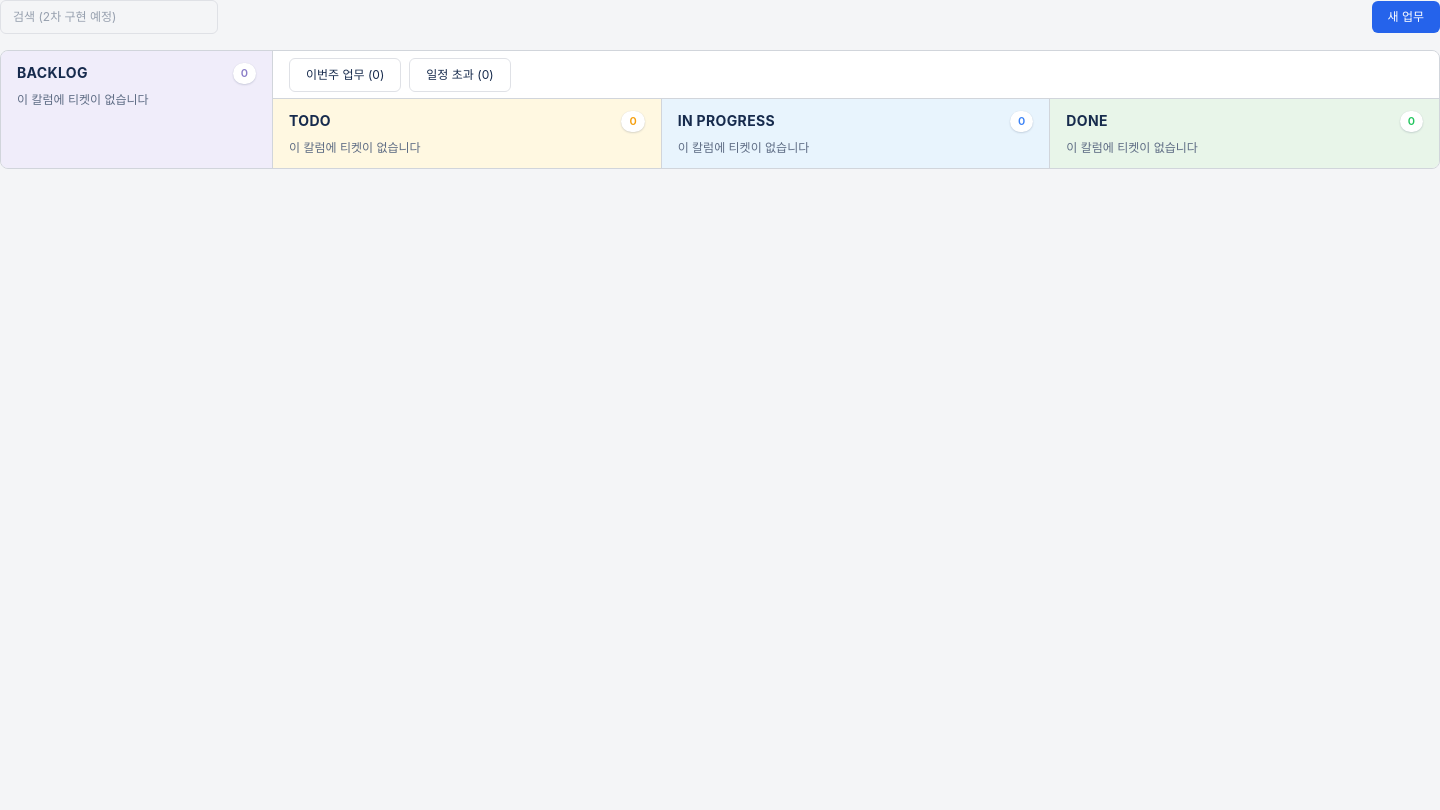
Test: BoardContainer › TC-COMP-003-2: "새 업무" 클릭 시 생성 모드 TicketForm 모달이 렌더링된다
The image size is (1440, 810).
Step 1. Click the button "새 업무" → (1406, 17), box [1372,1,1439,33]
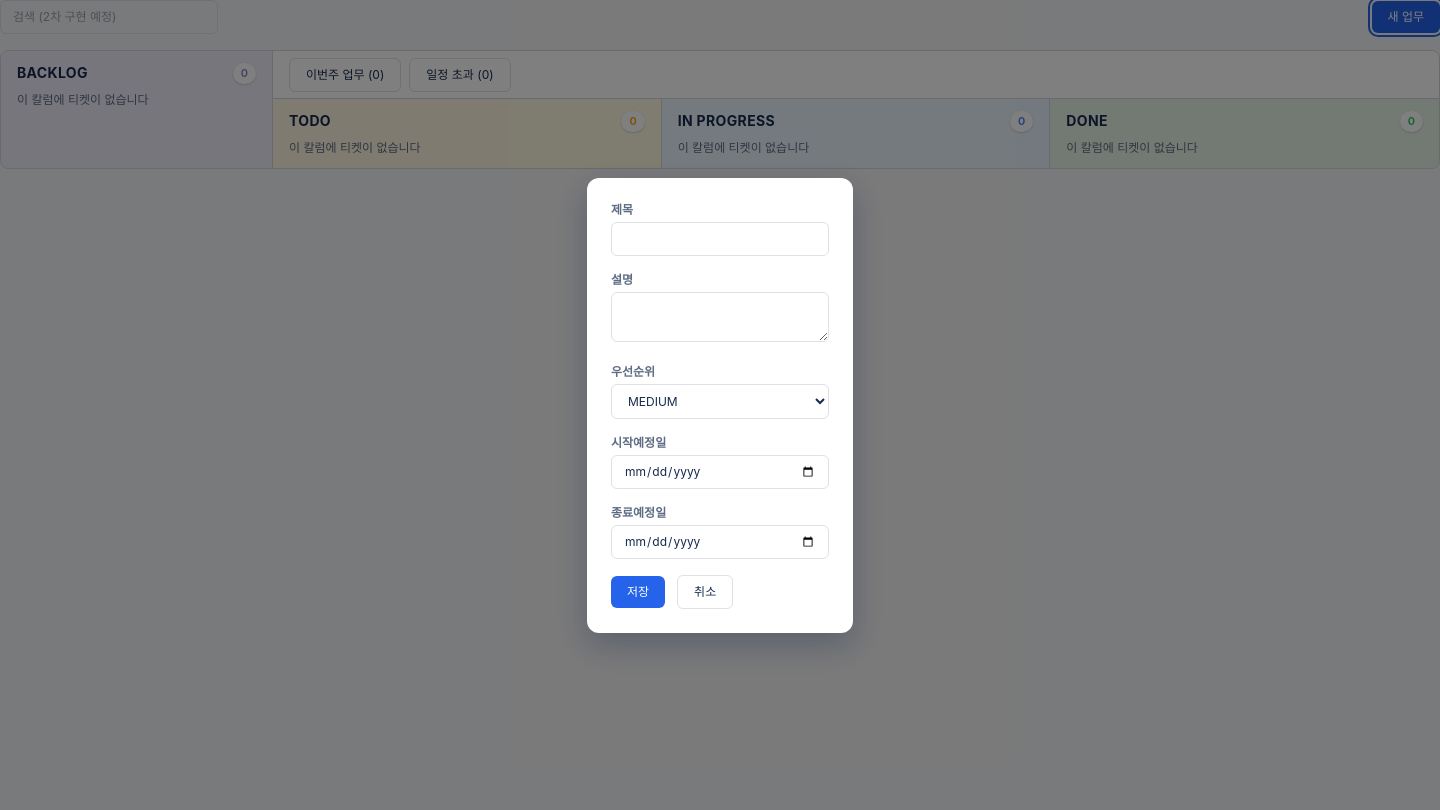
Expected: the field labelled "제목" is empty, [611,222,829,256]
Expected: the dropdown labelled "우선순위" shows "MEDIUM", [611,384,829,418]
